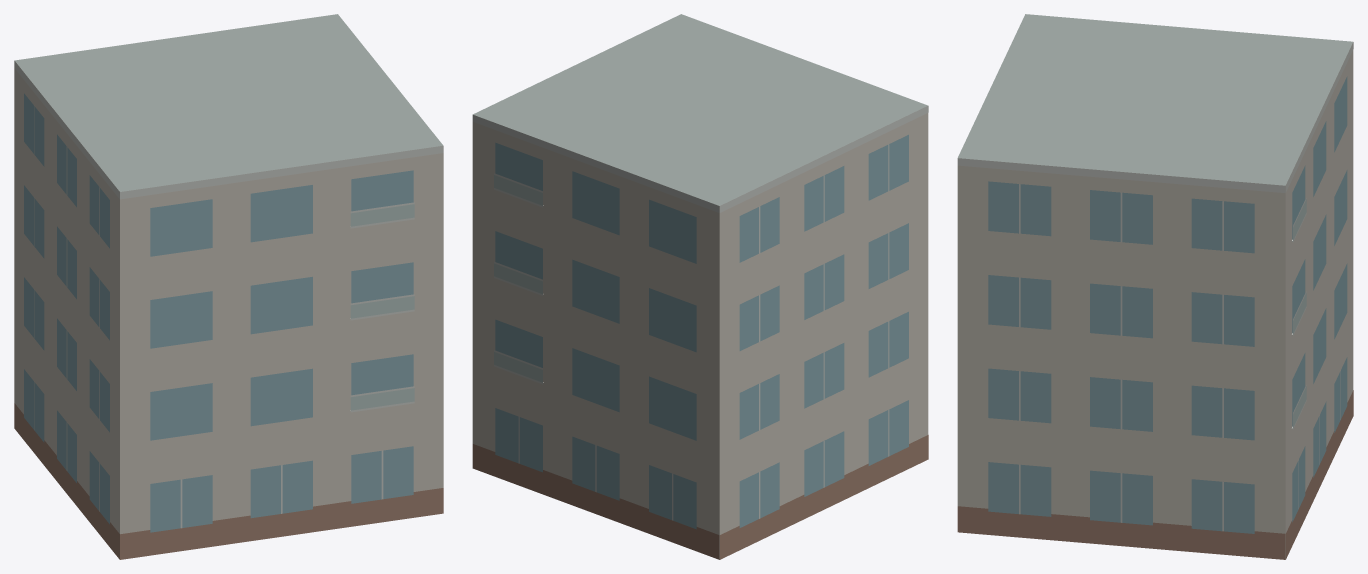
File: residential-dc5fa8c2-bd9f-4848-ab24-799f99e24aa6.glb
3 renders of one model, left to right at view 1: azimuth 30°, elevation 25°; view 2: azimuth 150°, elevation 25°; view 3: azimuth 270°, elevation 25°, orthographic. The views are drawn at different scales.
Visible parts, largest first — view 1: residential-dc5fa8c2-bd9f-4848-ab24-799f99e24aa6.tmp; view 2: residential-dc5fa8c2-bd9f-4848-ab24-799f99e24aa6.tmp; view 3: residential-dc5fa8c2-bd9f-4848-ab24-799f99e24aa6.tmp.
Boxes of the visible parts, box(x1,y1,x2,y2) form: residential-dc5fa8c2-bd9f-4848-ab24-799f99e24aa6.tmp: box(14, 14, 443, 559); residential-dc5fa8c2-bd9f-4848-ab24-799f99e24aa6.tmp: box(472, 14, 928, 559); residential-dc5fa8c2-bd9f-4848-ab24-799f99e24aa6.tmp: box(957, 14, 1353, 559).
Bounding box in the file's own units: 12.02 × 12.2 × 11.71.
